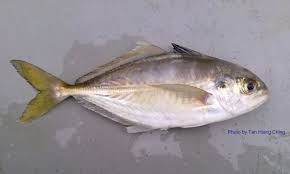Ikan Selar: (10, 31, 280, 149)
